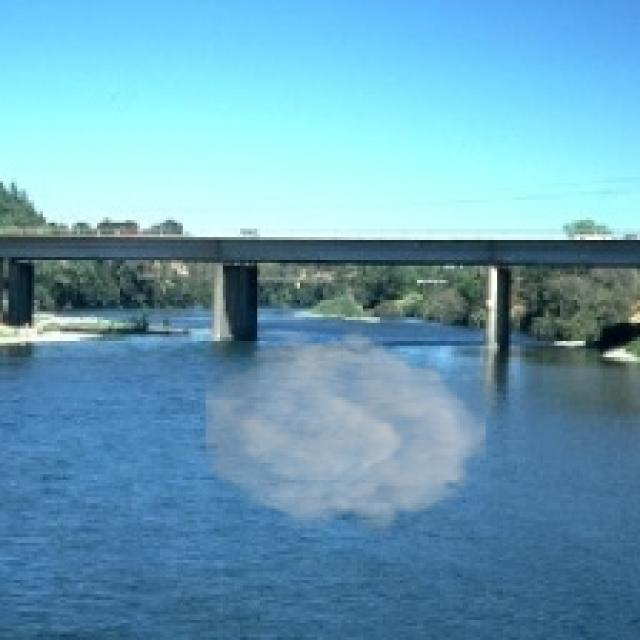smoke: (205, 323, 486, 537)
